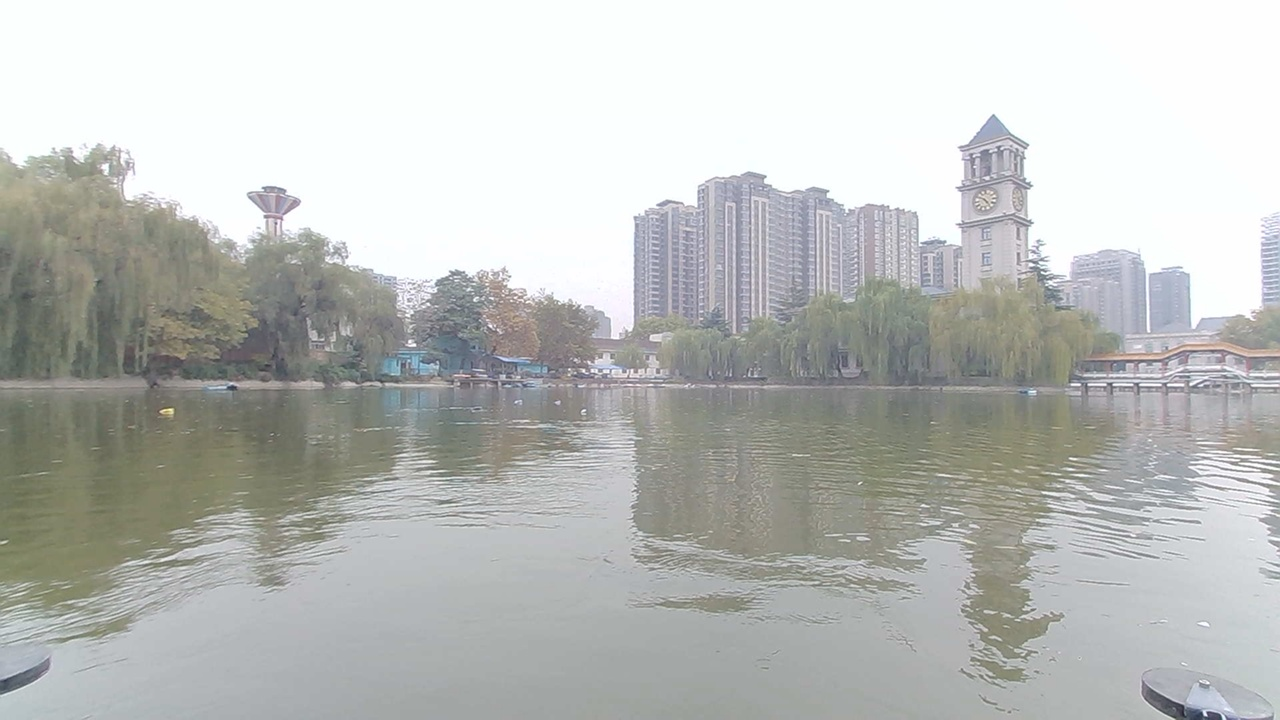bottle: (569, 401, 600, 427), (148, 396, 181, 420), (503, 390, 528, 415), (546, 393, 572, 409)
